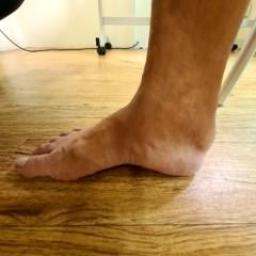Medial View -Right Foot-: (8, 51, 230, 207)
